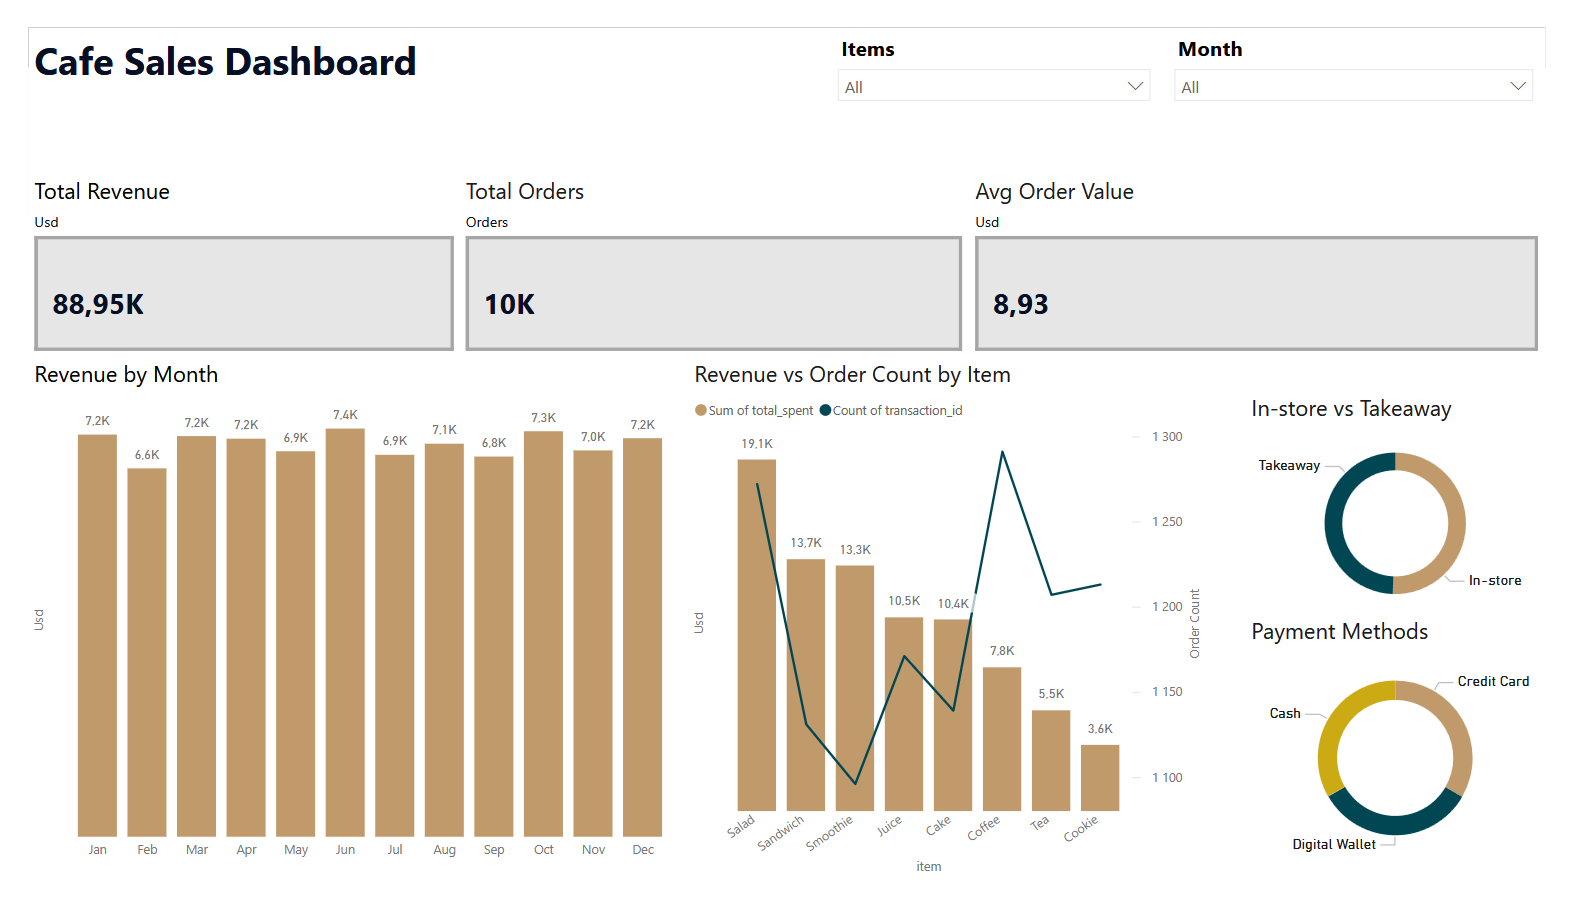

The dashboard page shown, as its layout file describes it:
{"tool":"powerbi","page":{"name":"Page 1","canvas":[1280,720],"ordinal":0},"visuals":[{"type":"cardVisual","title":"Total Revenue","fields":{"Data":["Sum(public cafe_sales2.total_spent)"]},"box":[0,125.4,364.3,153.3],"z":0},{"type":"cardVisual","title":"Total Orders","fields":{"Data":["Count(public cafe_sales2.transaction_id)"]},"box":[364.3,125.4,430,153.3],"z":1000},{"type":"cardVisual","title":"Avg Order Value","fields":{"Data":["public cafe_sales2.Avg_Order_Value"]},"box":[794.3,125.4,485.7,153.3],"z":2000},{"type":"lineClusteredColumnComboChart","title":"Revenue vs Order Count by Item","fields":{"Category":["public cafe_sales2.item"],"Y":["Sum(public cafe_sales2.total_spent)"],"Y2":["CountNonNull(public cafe_sales2.transaction_id)"]},"box":[557.4,278.7,441.9,440.9],"z":3000},{"type":"columnChart","title":"Revenue by Month","fields":{"Y":["Sum(public cafe_sales2.total_spent)"],"Category":["public cafe_sales2.Month Short"]},"box":[0,278.7,557.4,433],"z":4000},{"type":"donutChart","title":"In-store vs Takeaway","fields":{"Category":["public cafe_sales2.location"],"Y":["Sum(public cafe_sales2.total_spent)"]},"box":[1027.2,307.6,252.8,196.1],"z":5000},{"type":"donutChart","title":"Payment Methods ","fields":{"Category":["public cafe_sales2.payment_method"],"Y":["Sum(public cafe_sales2.total_spent)"]},"box":[1027.2,495.7,252.8,216],"z":6000},{"type":"textbox","box":[0,0,364.3,90.6],"z":6001},{"type":"slicer","fields":{"Values":["public cafe_sales2.transaction_date.Variation.Date Hierarchy.Month"]},"box":[956.5,0,323.5,75.6],"z":6002},{"type":"slicer","fields":{"Values":["public cafe_sales2.item"]},"box":[672.8,0,283.7,75.6],"z":6003}]}

Visuals, with their boxes in screenshot pixels (x1, y1, x2, y2), scaled from the page's 1280x720 canvas onto the 1573x909 screenshot:
"Total Revenue" cardVisual: Rect(0, 158, 448, 352)
"Total Orders" cardVisual: Rect(448, 158, 976, 352)
"Avg Order Value" cardVisual: Rect(976, 158, 1572, 352)
"Revenue vs Order Count by Item" lineClusteredColumnComboChart: Rect(685, 352, 1228, 908)
"Revenue by Month" columnChart: Rect(0, 352, 685, 899)
"In-store vs Takeaway" donutChart: Rect(1262, 388, 1572, 636)
"Payment Methods " donutChart: Rect(1262, 626, 1572, 899)
textbox: Rect(0, 0, 448, 114)
slicer - public cafe_sales2.transaction_date.Variation.Date Hierarchy.Month: Rect(1175, 0, 1572, 95)
slicer - public cafe_sales2.item: Rect(827, 0, 1175, 95)
